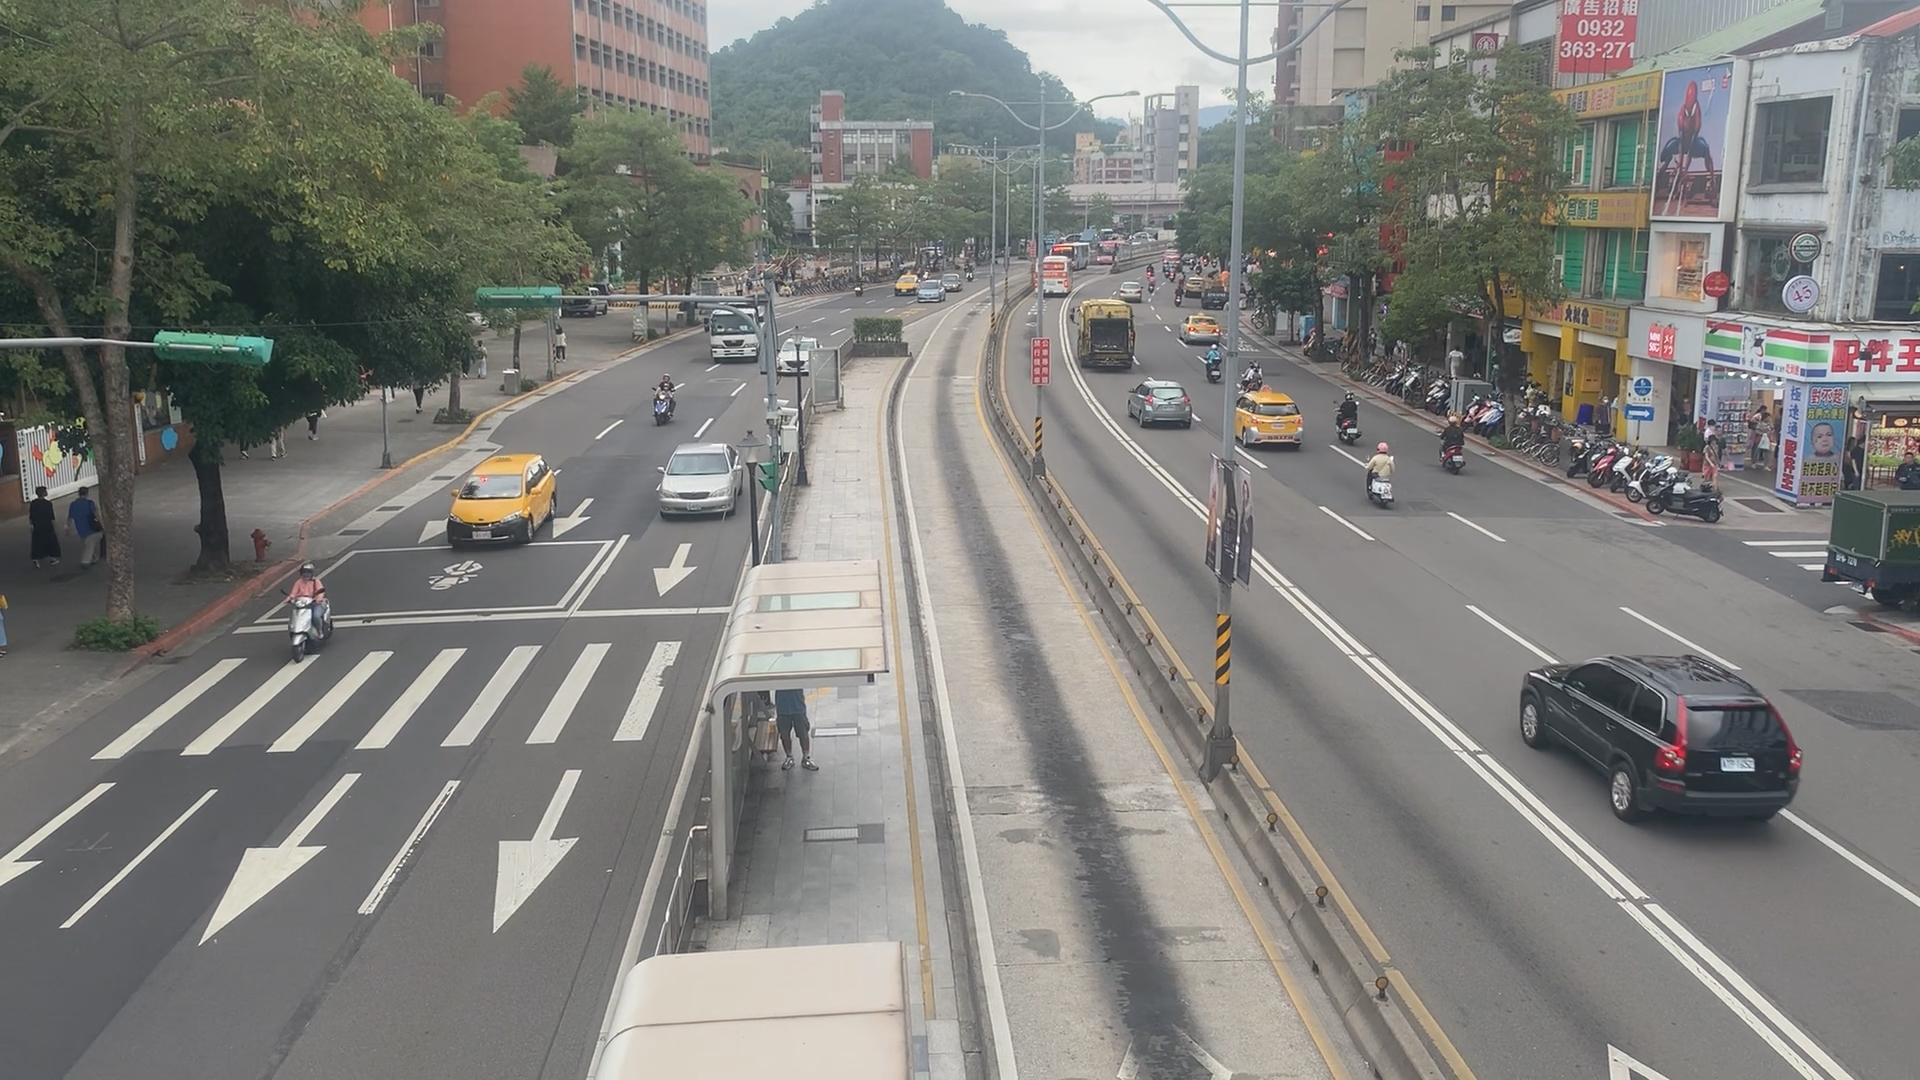Bus: (1072, 295, 1143, 377), (708, 306, 775, 373), (1029, 253, 1075, 302)
Business Passenger Car: (443, 458, 553, 549), (1225, 385, 1300, 444), (1174, 305, 1222, 345), (885, 269, 918, 298)
Motorcycle: (278, 560, 342, 662), (1362, 442, 1398, 502), (645, 369, 682, 422), (1437, 413, 1472, 469), (1335, 389, 1364, 442), (1200, 340, 1222, 385)
Private Passenger Car: (1514, 647, 1805, 831), (649, 438, 742, 524), (1125, 382, 1193, 431), (775, 334, 820, 376), (914, 274, 943, 305), (1118, 278, 1145, 303)
